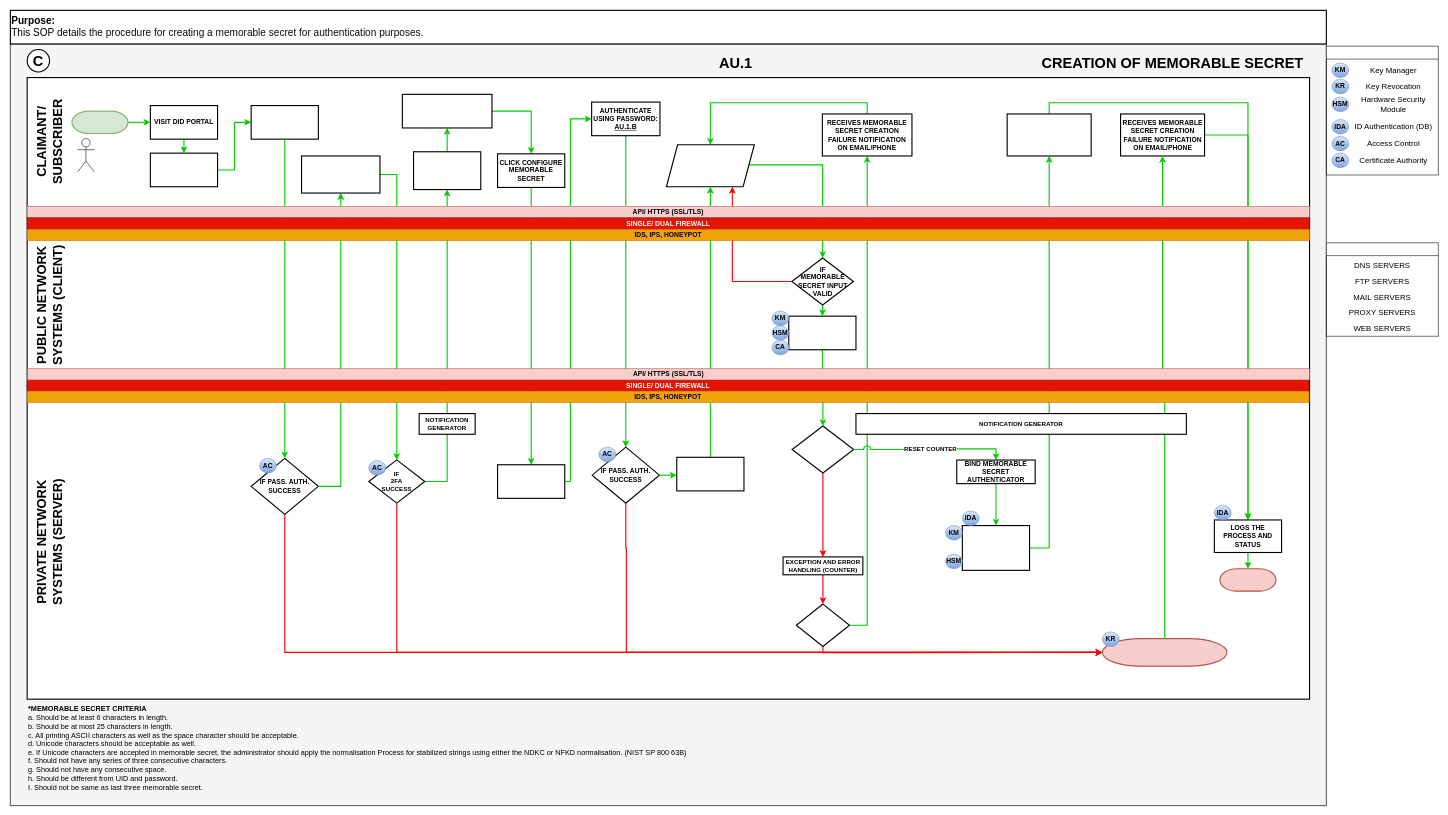
This 1448x815 diagram has some shape labels left out. Each missing label, with the box of its shape:
2FA USING (ONE) OTP: AU.2.C PIN: AU.1.F: (301, 155, 380, 193)
CLICK USER LOGIN: (150, 152, 218, 187)
END: (1219, 568, 1276, 591)
ENTERS NEW MEMORABLE SECRET WITH SPECIFIED CRITERIA*: (666, 144, 755, 187)
IF MEM. SEC. CRITERIA* MATCH: (791, 425, 854, 473)
IF RETRY COUNT <=3: (795, 603, 850, 647)
LEGEND: (1326, 46, 1438, 175)
LOGIN - PASS. AUTH.: AU.1.B: (250, 105, 319, 139)
MASK & ENCRYPT MEMORABLE SECRET: (788, 315, 856, 350)
NAVIGATE SETTINGS -> SECURITY-> 'MEMORABLE SECRET': (402, 94, 492, 128)
PROMPT TO CREATE NEW MEMORABLE SECRET: (676, 456, 744, 491)
PUBLIC NETWORK: (1326, 242, 1438, 336)
RECEIVE SUCCESSFUL LOGIN NOTIFICATION: (413, 151, 481, 190)
RECEIVES MEMORABLE SECRET CREATION SUCCESS NOTIFICATION ON EMAIL/PHONE: (1006, 113, 1091, 156)
REQUEST PASS. AUTH.: (497, 464, 565, 499)
START (ONLINE): (71, 110, 128, 134)
STORE MEMORABLE SECRET IN UIN ACCOUNT WITH ENCRYPTION AND HASHING: (962, 525, 1030, 571)
TERMINATE PROCESS: LOCK UIN ACCOUNT FOR 24 HOURS: (1102, 638, 1227, 666)
USER: (77, 138, 94, 172)
